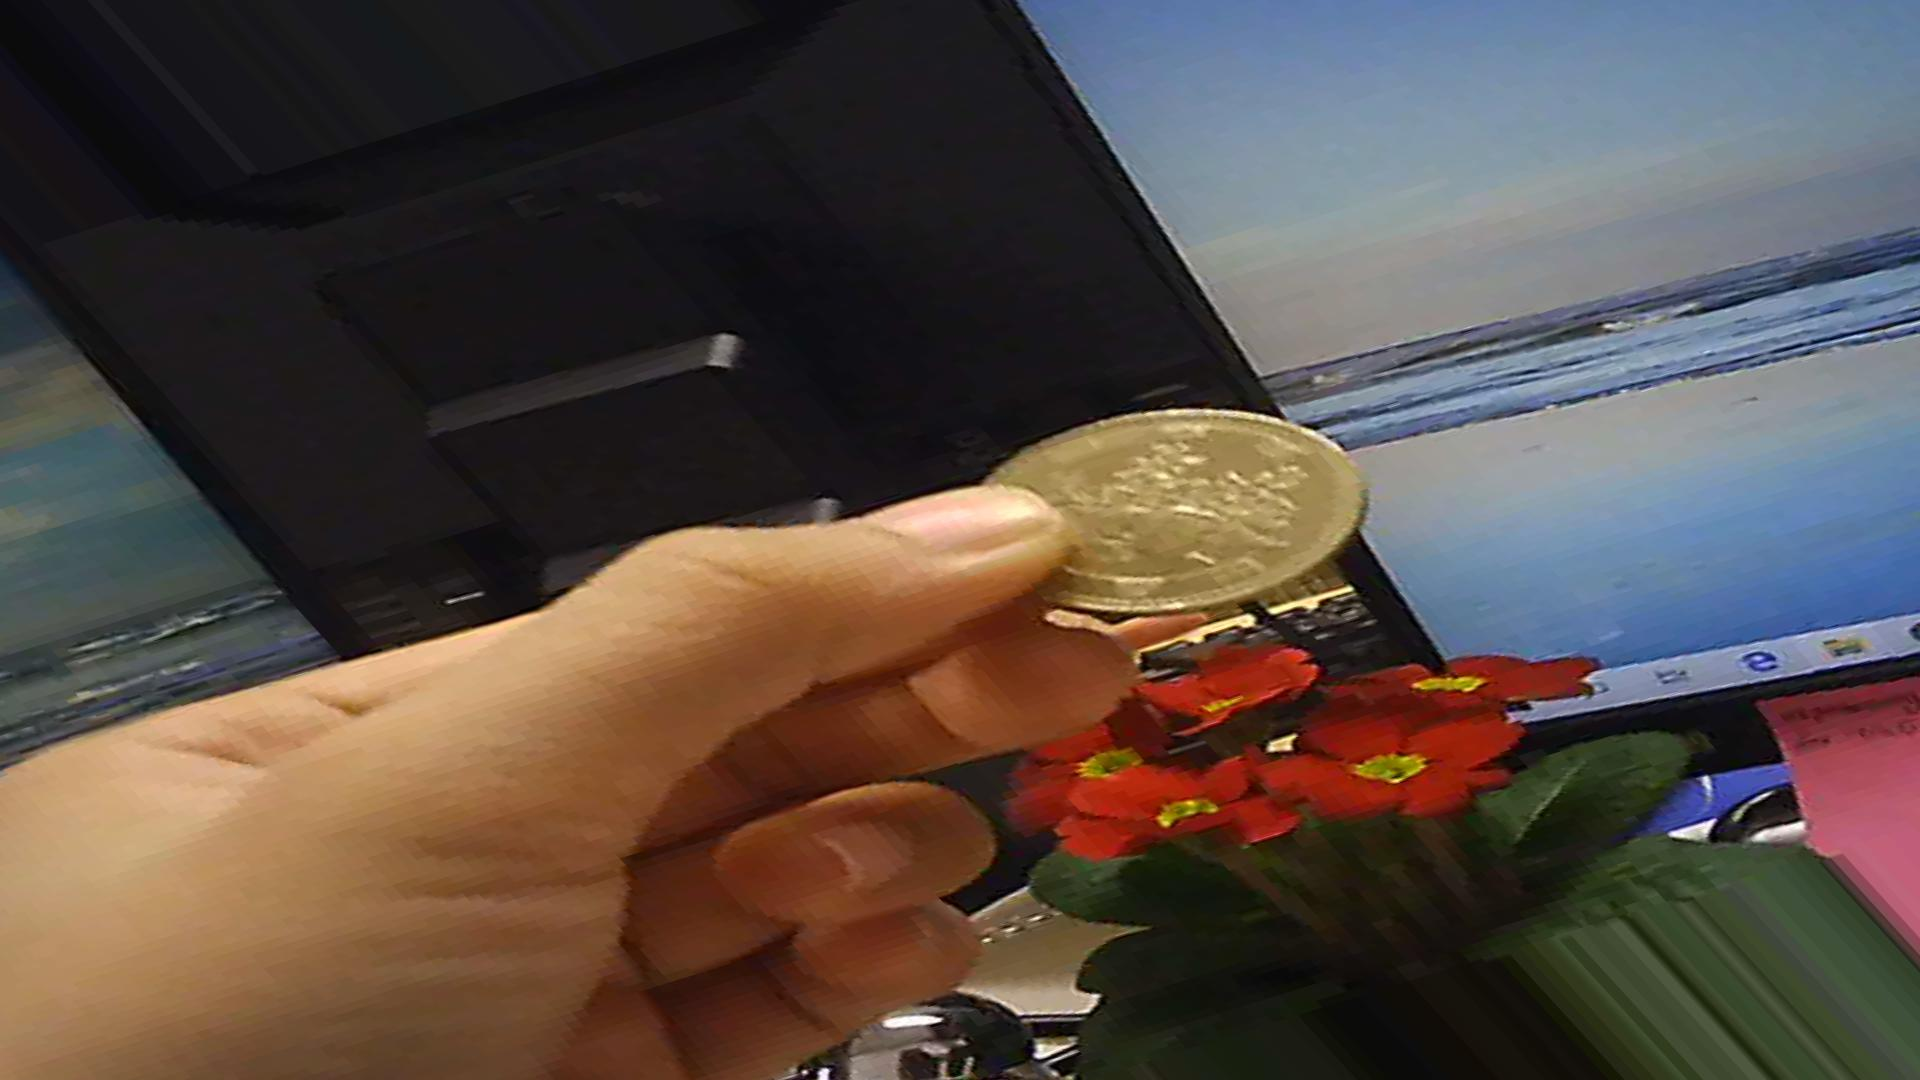500 Yen: (945, 415, 1410, 617)
